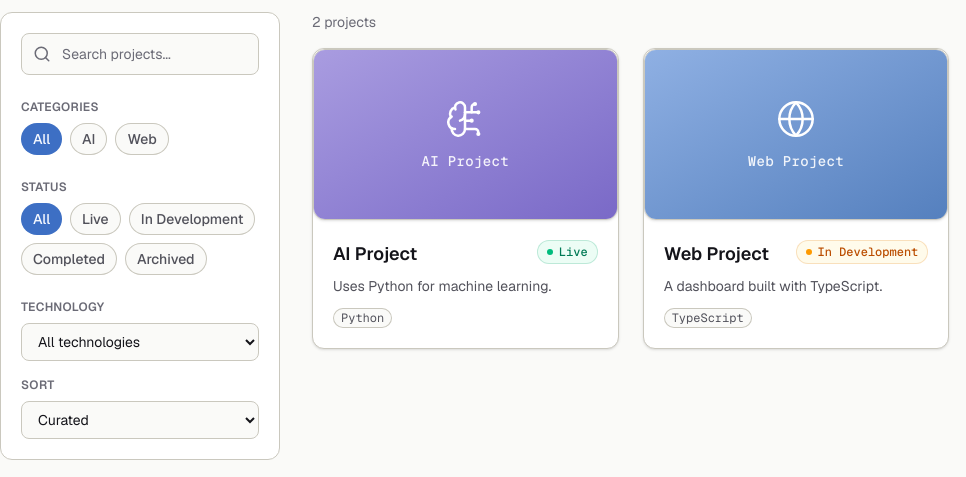
Test: ProjectsExplorer › filters by search query without a page reload
Type "python" into the search field labelled "Search projects..." at (140, 54), box x1=21 y1=33 x2=259 y2=75
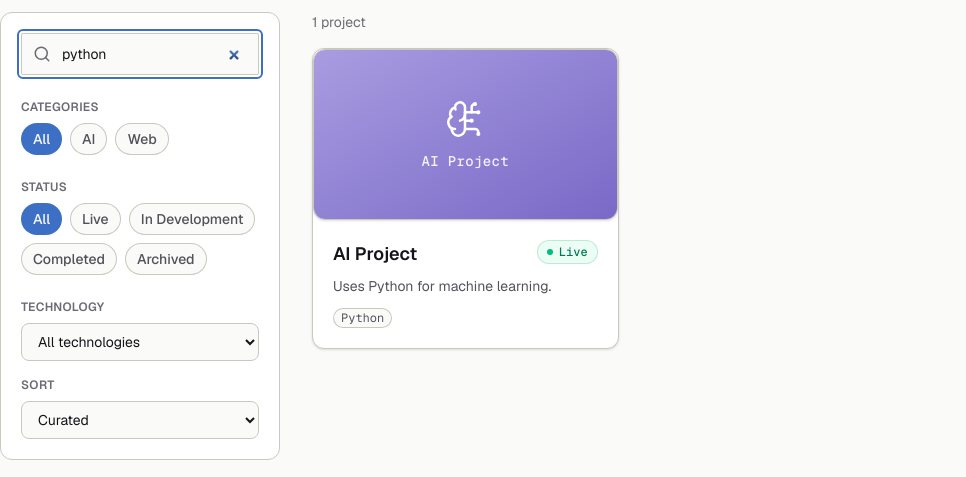
Expected: the heading "AI Project" is shown, x1=333 y1=240 x2=417 y2=268
Expected: the text "Web Project" is gone
Expected: the text "1 project" is shown, x1=312 y1=13 x2=366 y2=31
